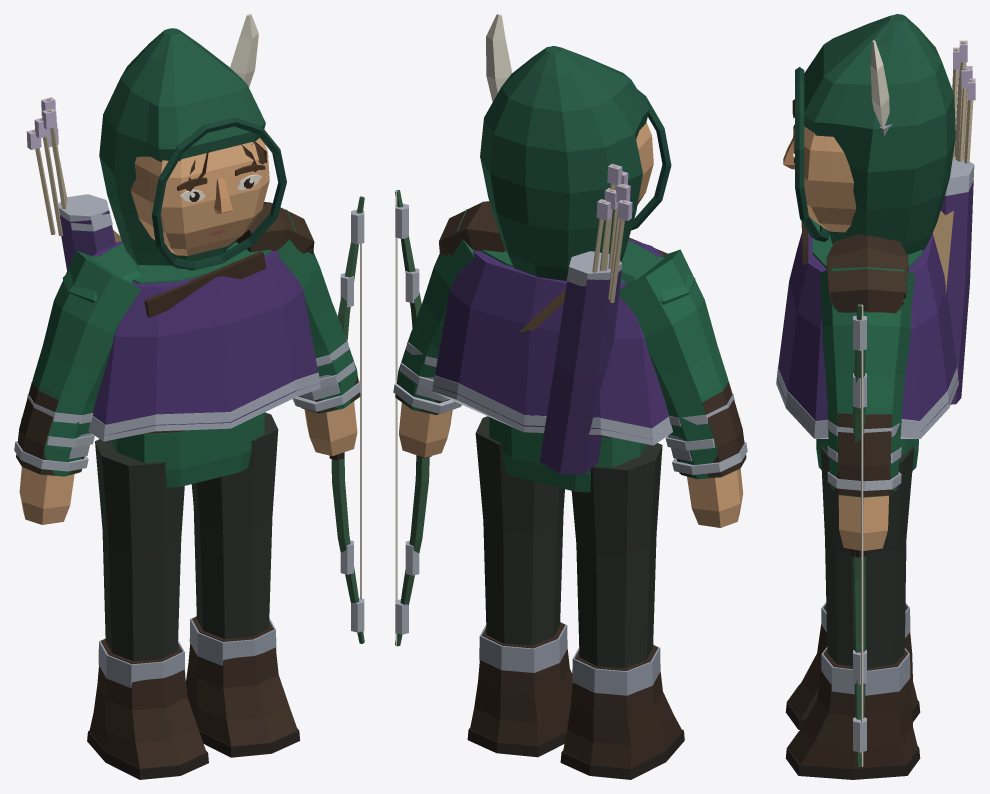
The model's file is ranger-epic.obj.
The picture shows the model from 3 angles, left to right: view 1: azimuth 30°, elevation 25°; view 2: azimuth 150°, elevation 25°; view 3: azimuth 270°, elevation 25°; orthographic projection. The views are drawn at different scales.
Parts seen in each view (by area): view 1: bacaklar, pelerin, kapuson, cizmeler, kollar, kafa, govde, eller, pelerin-kenari, omuz-zirhi, kapuson-kenari, cizme-plakalari (+12 smaller); view 2: bacaklar, kapuson, pelerin, kollar, cizmeler, sadak, govde, eller, cizme-plakalari, pelerin-kenari, bileklik-nakis, cizme-tabani (+11 smaller); view 3: kapuson, pelerin, bacaklar, cizmeler, kollar, omuz-zirhi, kafa, sadak, bileklikler, eller, cizme-plakalari, pelerin-kenari (+12 smaller).
Part boxes in pixels (x1,y1,x2,y2): bacaklar: [95, 412, 278, 661]; pelerin: [92, 241, 318, 435]; kapuson: [99, 28, 265, 268]; cizmeler: [89, 616, 297, 768]; kollar: [22, 209, 359, 476]; kafa: [130, 138, 269, 255]; govde: [101, 242, 271, 487]; eller: [19, 401, 357, 524]; pelerin-kenari: [88, 372, 320, 441]; omuz-zirhi: [144, 202, 314, 317]; kapuson-kenari: [152, 117, 286, 270]; cizme-plakalari: [98, 616, 276, 688]; bacaklar: [475, 416, 662, 668]; kapuson: [480, 46, 649, 280]; pelerin: [434, 239, 668, 439]; kollar: [396, 209, 740, 479]; cizmeler: [470, 622, 682, 768]; sadak: [539, 269, 621, 474]; govde: [482, 241, 655, 492]; eller: [399, 402, 743, 527]; cizme-plakalari: [479, 622, 660, 695]; pelerin-kenari: [432, 374, 672, 445]; bileklik-nakis: [393, 339, 747, 474]; cizme-tabani: [467, 728, 684, 779]; kapuson: [804, 14, 955, 254]; pelerin: [776, 216, 958, 431]; bacaklar: [820, 446, 914, 667]; cizmeler: [788, 604, 917, 768]; kollar: [819, 267, 915, 497]; omuz-zirhi: [801, 222, 908, 313]; kafa: [804, 126, 855, 232]; sadak: [940, 176, 973, 404]; bileklikler: [834, 413, 893, 496]; eller: [838, 495, 888, 550]; cizme-plakalari: [821, 602, 910, 695]; pelerin-kenari: [776, 365, 958, 438].
Bounding box in the file's own units: 22.49 × 44.21 × 10.99.
